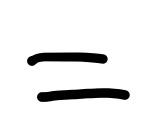eqv: (28, 52, 130, 101)
